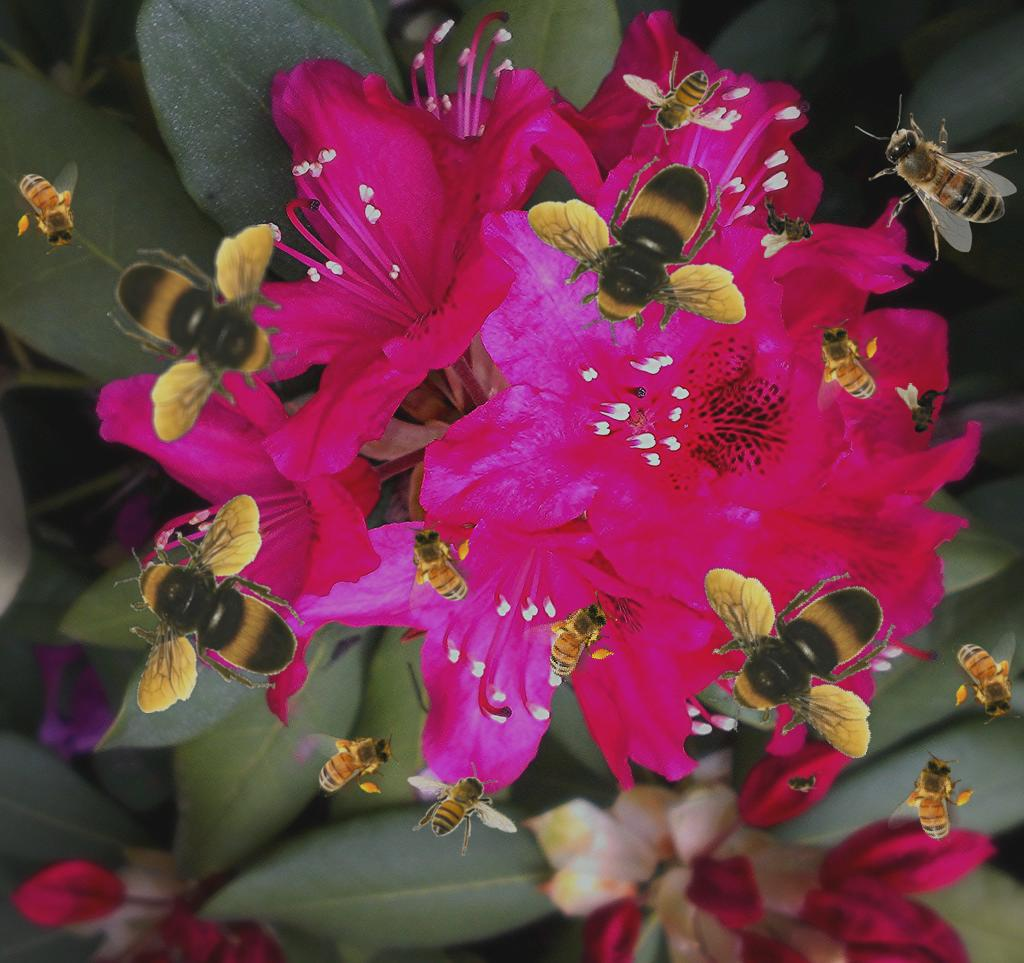Bee: (651, 519, 931, 784), (114, 493, 305, 713), (526, 156, 746, 347), (107, 224, 298, 444), (855, 94, 1017, 261), (881, 743, 987, 858), (518, 588, 632, 691), (622, 51, 733, 145), (407, 762, 518, 856), (952, 631, 1020, 724), (405, 521, 473, 614), (813, 319, 881, 412), (306, 729, 399, 797), (14, 161, 82, 254), (895, 383, 957, 436), (761, 196, 814, 258), (781, 771, 821, 793)
